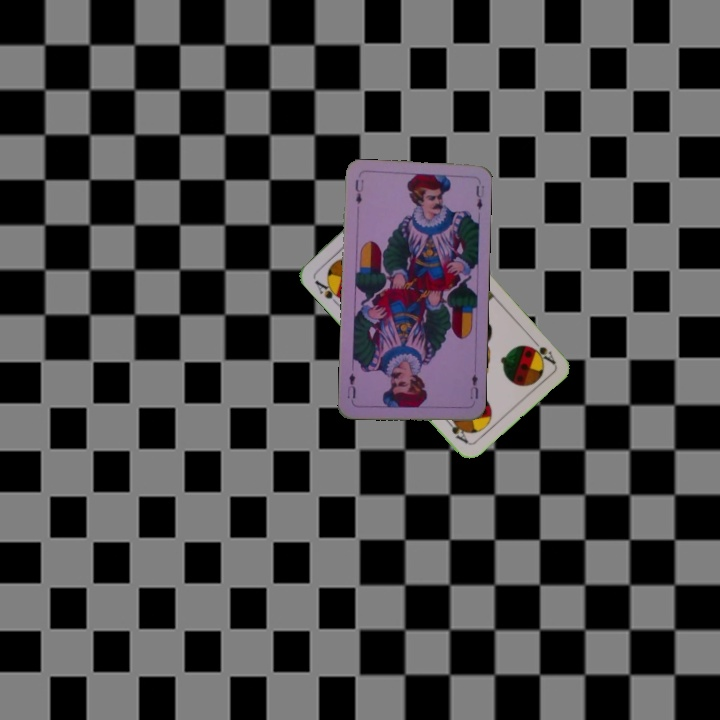EU: (351, 175, 366, 207), (466, 370, 480, 402)
SA: (525, 333, 558, 367), (311, 276, 346, 308)
